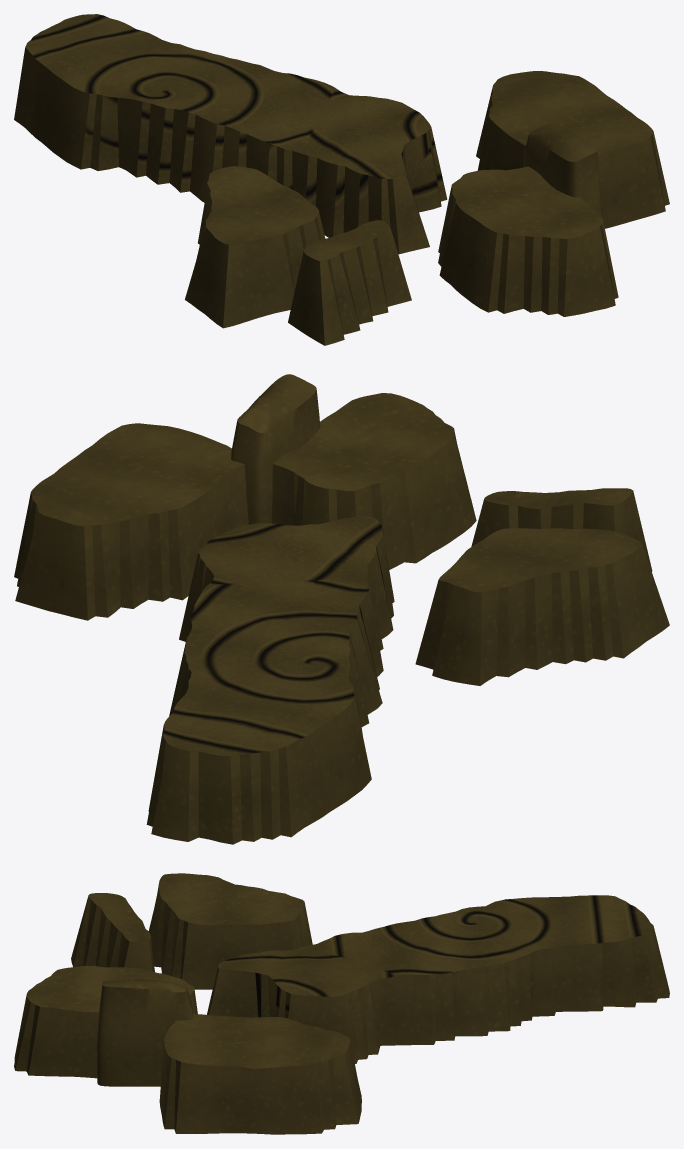
The model's file is CREHenge10.glb.
The picture shows the model from 3 angles, top to bottom: view 1: azimuth 30°, elevation 25°; view 2: azimuth 150°, elevation 25°; view 3: azimuth 270°, elevation 25°; orthographic projection. The views are drawn at different scales.
Visible parts, largest first — view 1: CREHenge10_tops; view 2: CREHenge10_tops; view 3: CREHenge10_tops.
Part boxes in pixels (x1,y1,x2,y2): CREHenge10_tops: (14, 14, 669, 345); CREHenge10_tops: (14, 374, 669, 844); CREHenge10_tops: (14, 873, 669, 1134).
Size of the model in its own units: 2.71 by 0.63 by 3.72.
2 materials, 2 textured.
